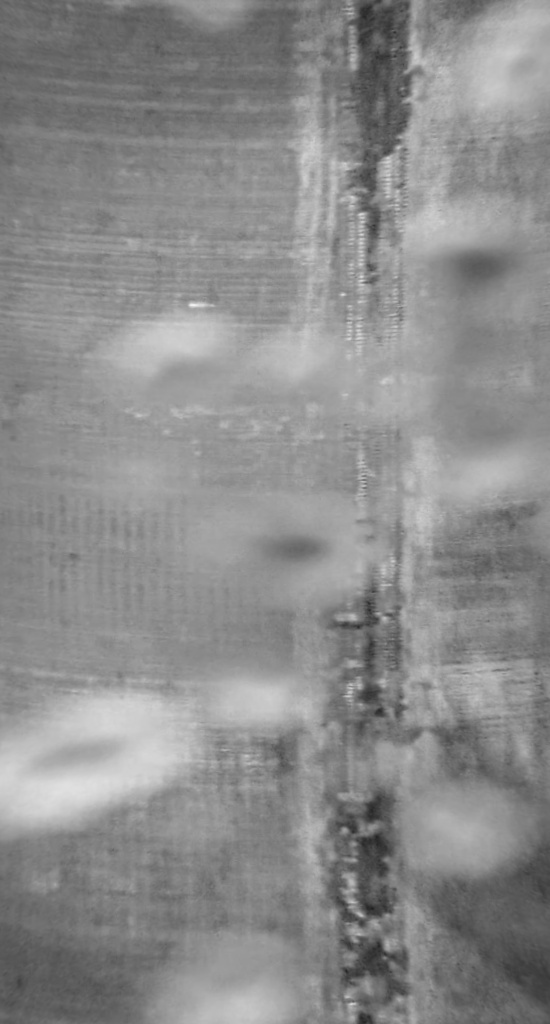splice: (315, 1, 402, 1023)
